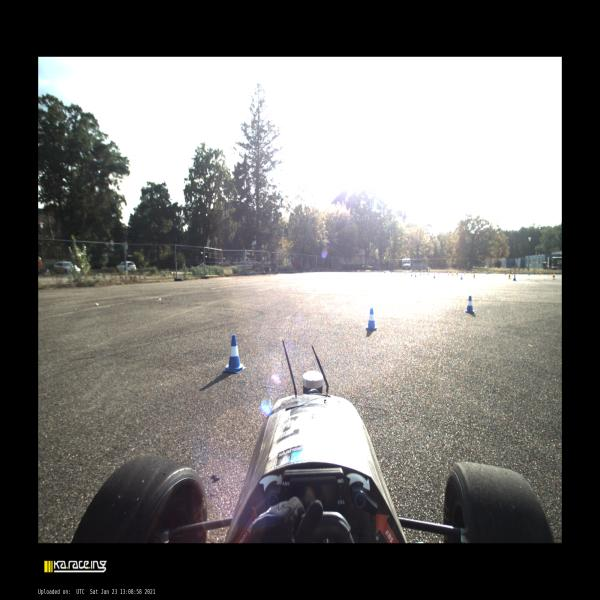blue_cone: (223, 335, 246, 373), (366, 308, 377, 330), (465, 295, 475, 314), (514, 274, 516, 281), (433, 273, 435, 279), (460, 274, 462, 279), (411, 272, 413, 276), (427, 271, 429, 275), (384, 270, 386, 273), (420, 271, 421, 276), (415, 273, 416, 277), (405, 270, 406, 274), (423, 272, 425, 274), (488, 271, 489, 275), (529, 272, 530, 276), (391, 270, 392, 273), (395, 270, 396, 273), (505, 272, 506, 274)
yellow_cone: (552, 273, 556, 280), (508, 273, 511, 279), (473, 273, 475, 279), (452, 272, 454, 278), (464, 272, 466, 276), (448, 272, 449, 277), (438, 271, 439, 275), (456, 271, 457, 275), (457, 272, 458, 276), (486, 272, 488, 274), (512, 272, 513, 276), (540, 272, 541, 276)
